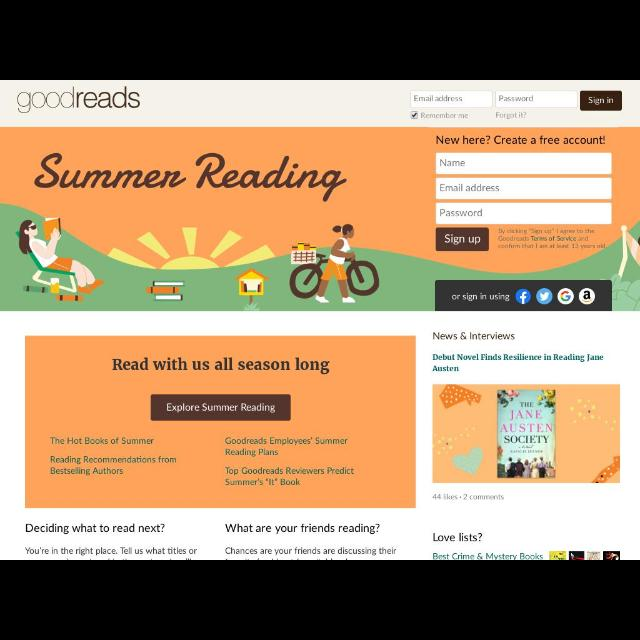backgroundimage: (1, 126, 639, 312)
checkbox: (411, 112, 419, 118)
image: (433, 384, 621, 484), (18, 86, 140, 114), (550, 551, 620, 559), (536, 288, 554, 304), (558, 288, 574, 306), (578, 288, 596, 304), (515, 288, 531, 304)
input: (436, 153, 612, 175), (436, 178, 612, 200), (436, 203, 612, 224), (411, 92, 492, 108), (497, 91, 578, 107)
text: (113, 358, 330, 374), (432, 354, 604, 372), (51, 456, 178, 476), (226, 437, 348, 457), (499, 228, 608, 250), (225, 467, 355, 485), (24, 546, 198, 556), (225, 547, 397, 557), (224, 524, 380, 534), (26, 523, 164, 533), (437, 136, 606, 144), (167, 402, 275, 413), (50, 437, 154, 445), (433, 332, 515, 341), (433, 553, 543, 559), (433, 493, 505, 501), (433, 532, 483, 542), (440, 184, 500, 192), (452, 294, 510, 302), (413, 94, 462, 102), (421, 112, 469, 120), (446, 233, 480, 244), (440, 209, 482, 217), (496, 111, 526, 119), (588, 96, 614, 105), (498, 96, 534, 102), (440, 159, 464, 167)
textbutton: (151, 394, 291, 420), (436, 228, 489, 250), (580, 91, 622, 111)
